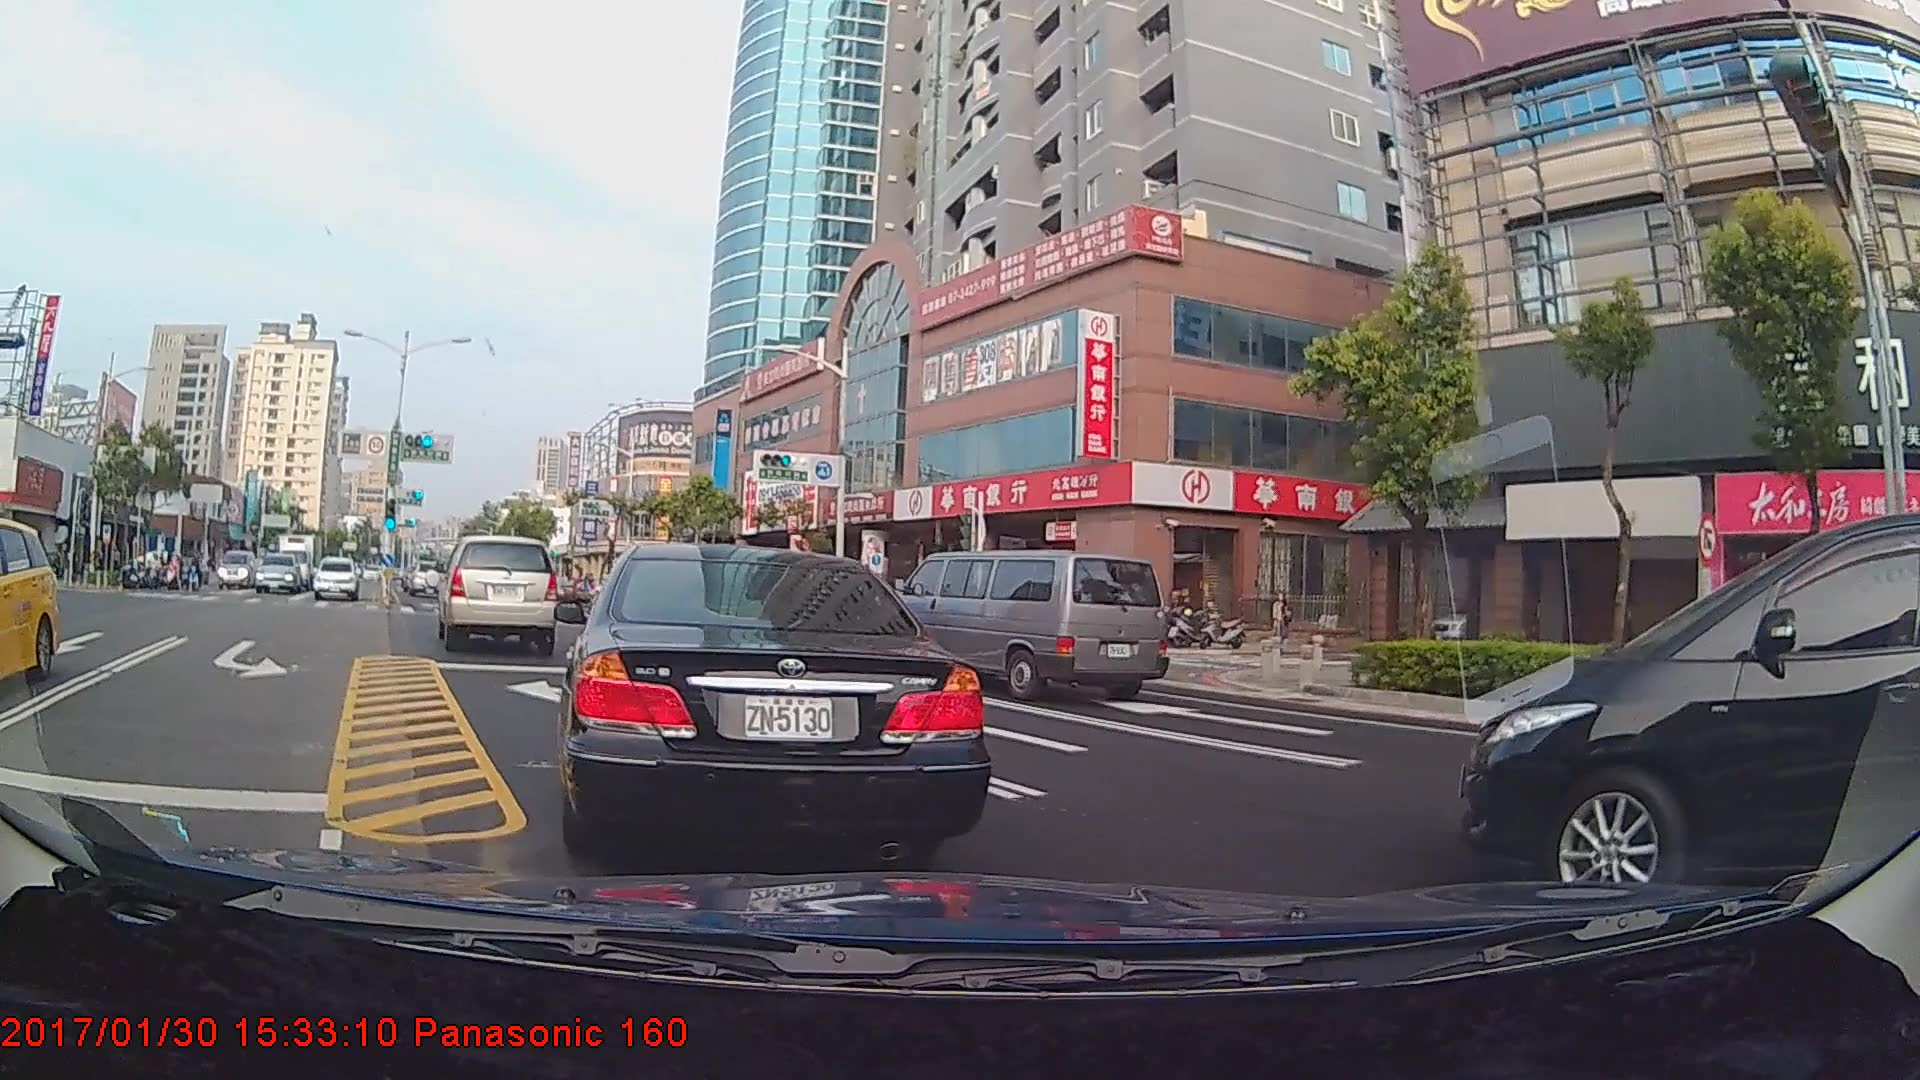pedestrian: (1267, 593, 1294, 656)
vehicle: (1431, 472, 1904, 899), (558, 535, 984, 863), (890, 550, 1165, 704), (435, 534, 560, 652), (0, 514, 58, 690), (267, 530, 320, 591), (255, 551, 307, 595), (312, 555, 360, 601), (217, 549, 258, 590), (406, 558, 444, 598)
